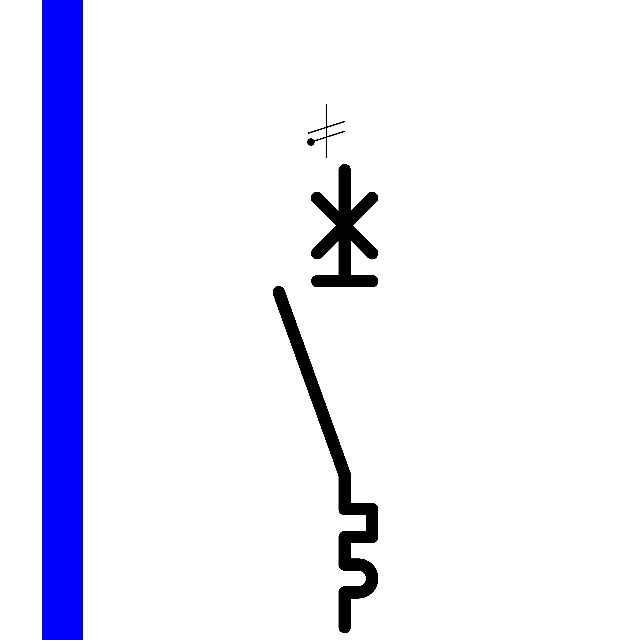interruptor_termomagnetico: (267, 158, 384, 638)
